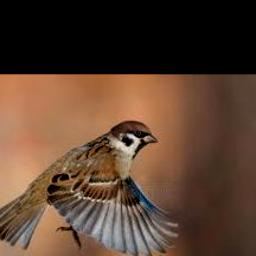Sparrow: (0, 121, 178, 256)
